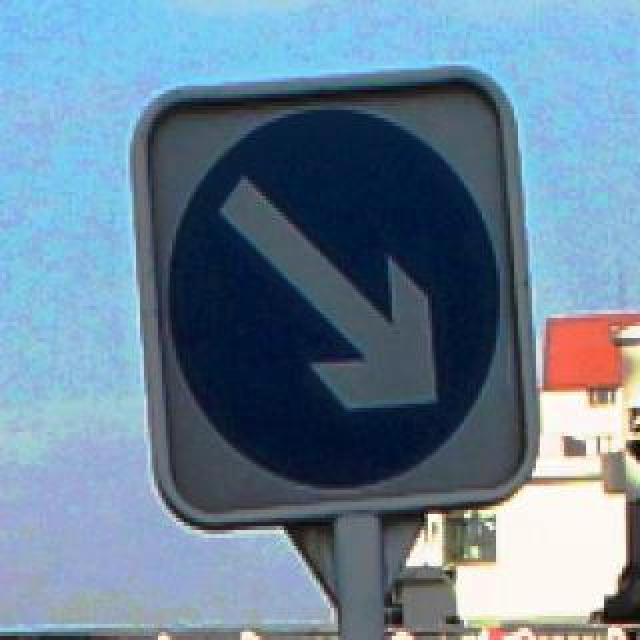keep right: (160, 102, 504, 498)
